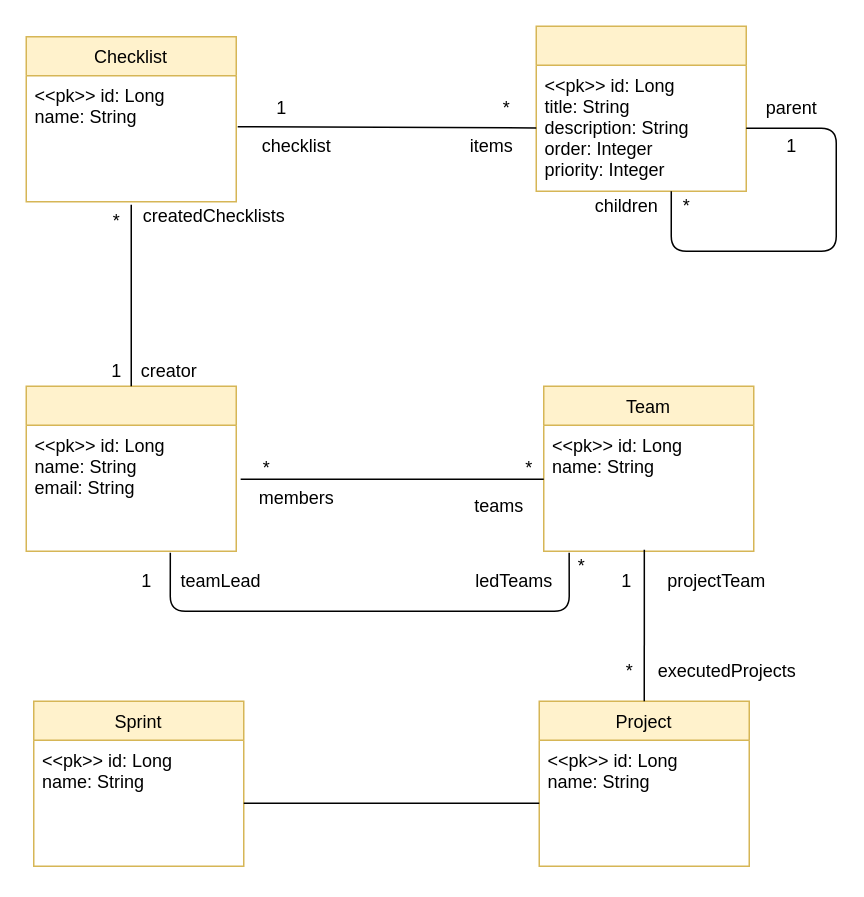
This 864x897 diagram has some shape labels left out. The shapes that lost their labels are listed below. From the top down, each one's box as (x1, y1, x2, y2) in pixels, then its label:
(535, 25, 746, 191): Item
(25, 385, 236, 551): Member
